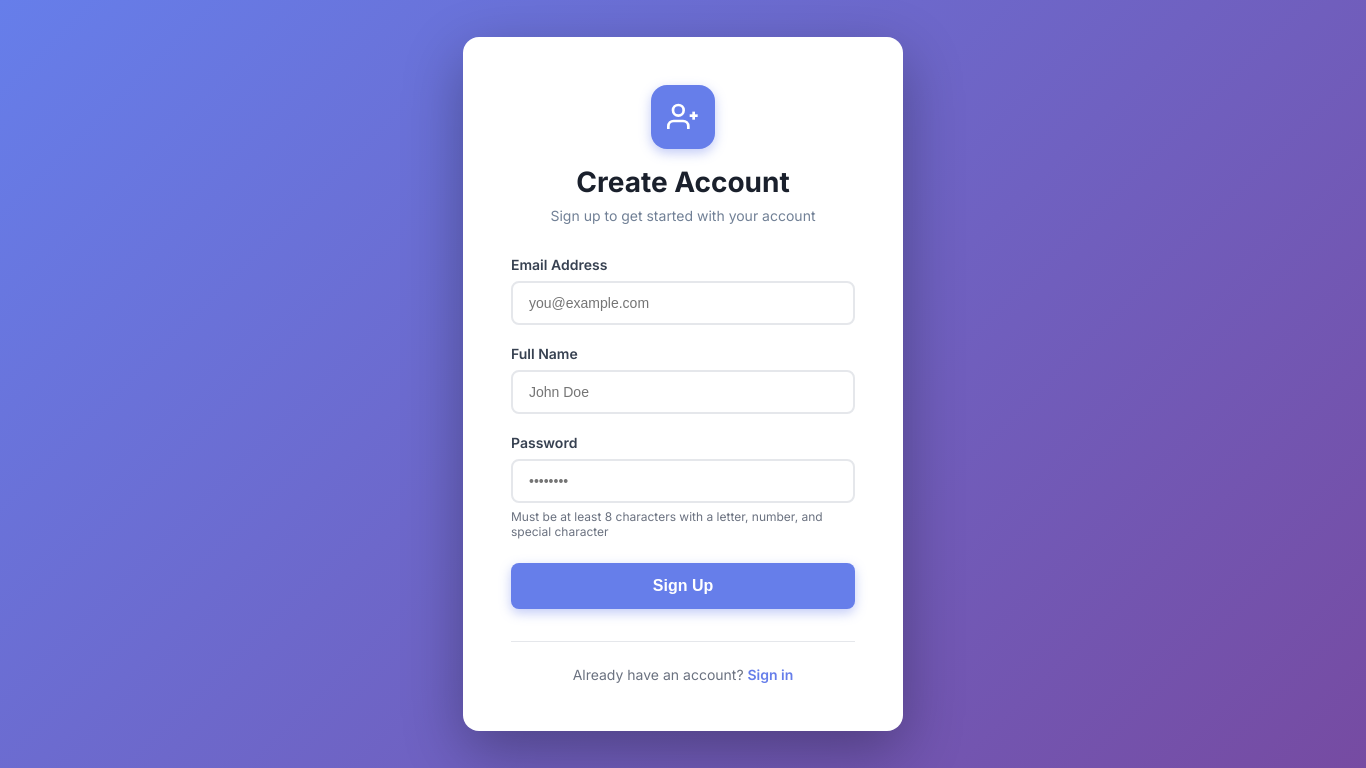
Test case: SignupPage - Unit Tests › displays validation error for password without special character
Type "Password123" into the password field labelled "Password".
click(683, 481); type("Password123")  # box left=511, top=459, right=855, bottom=503
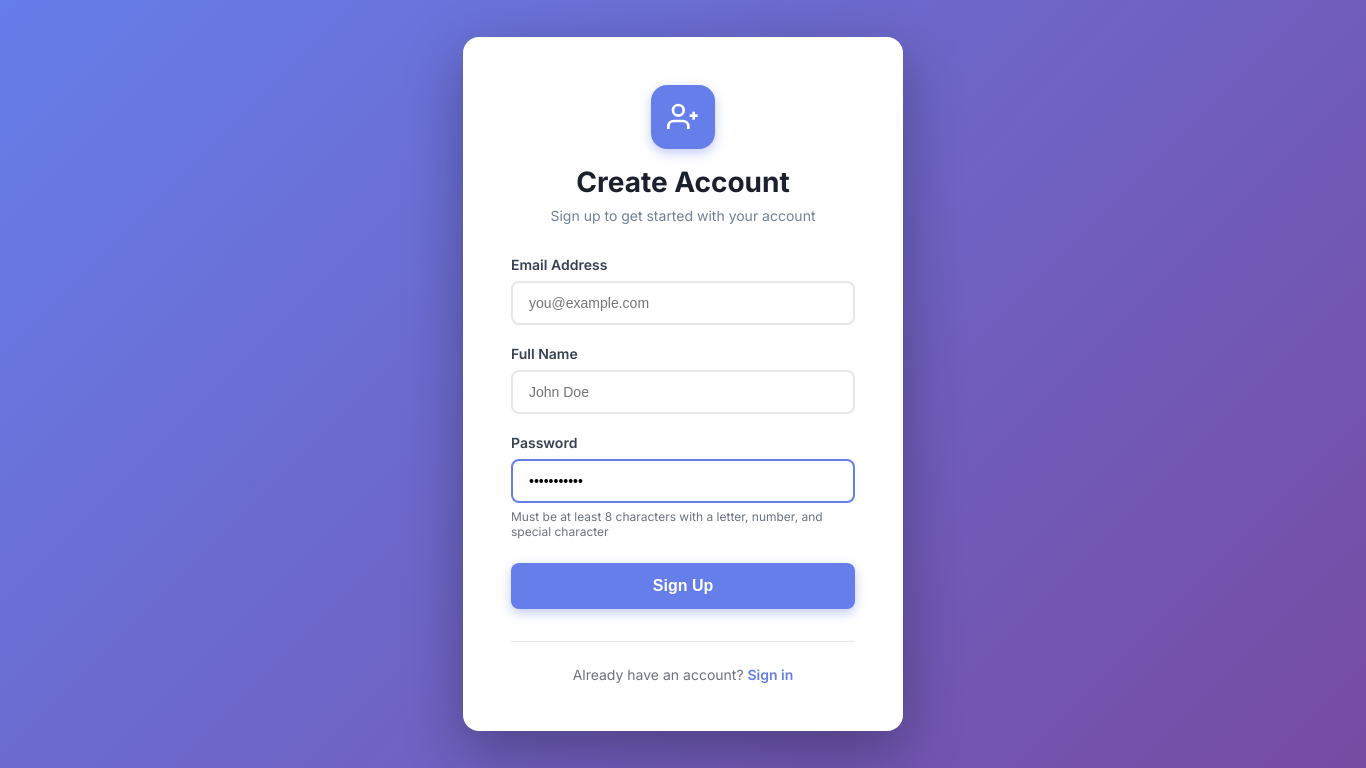
Press Tab
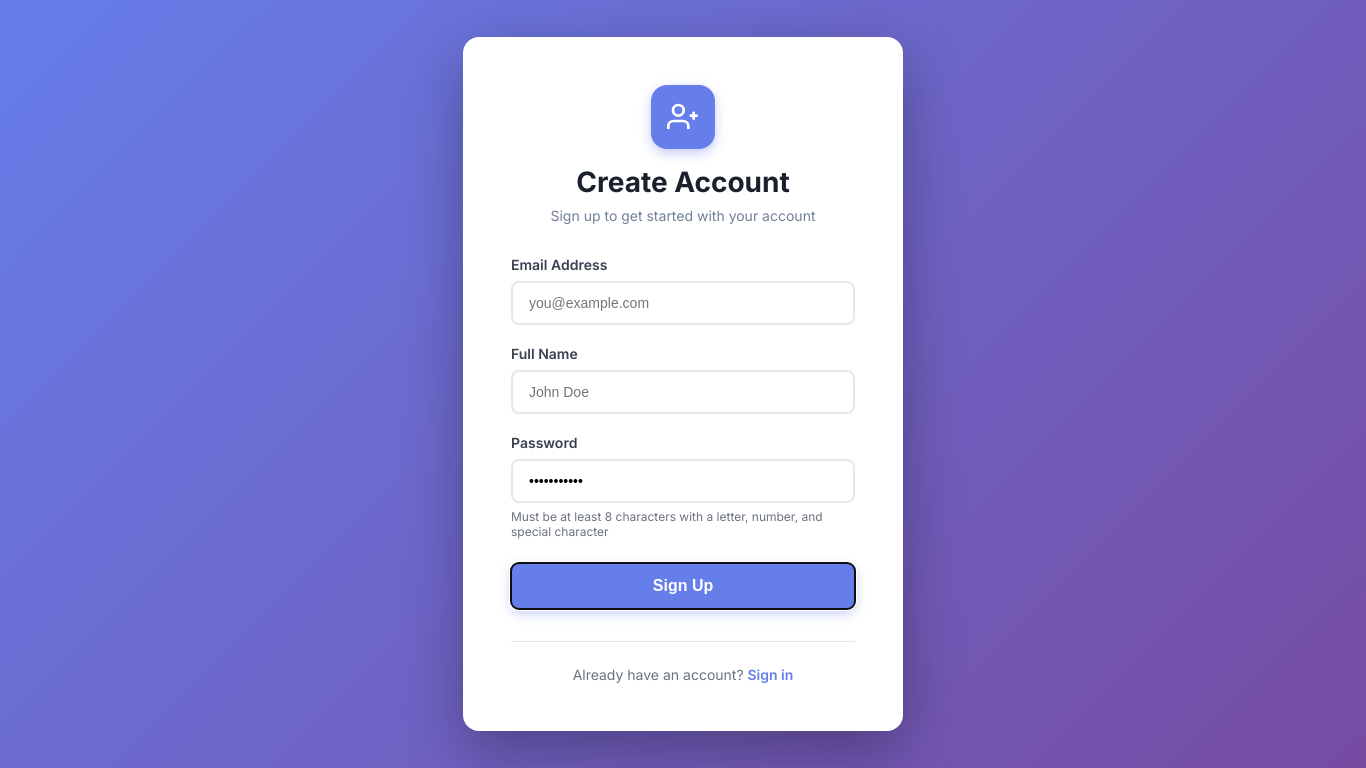
Click the button "Sign Up".
click(683, 586)  # box left=511, top=563, right=855, bottom=609
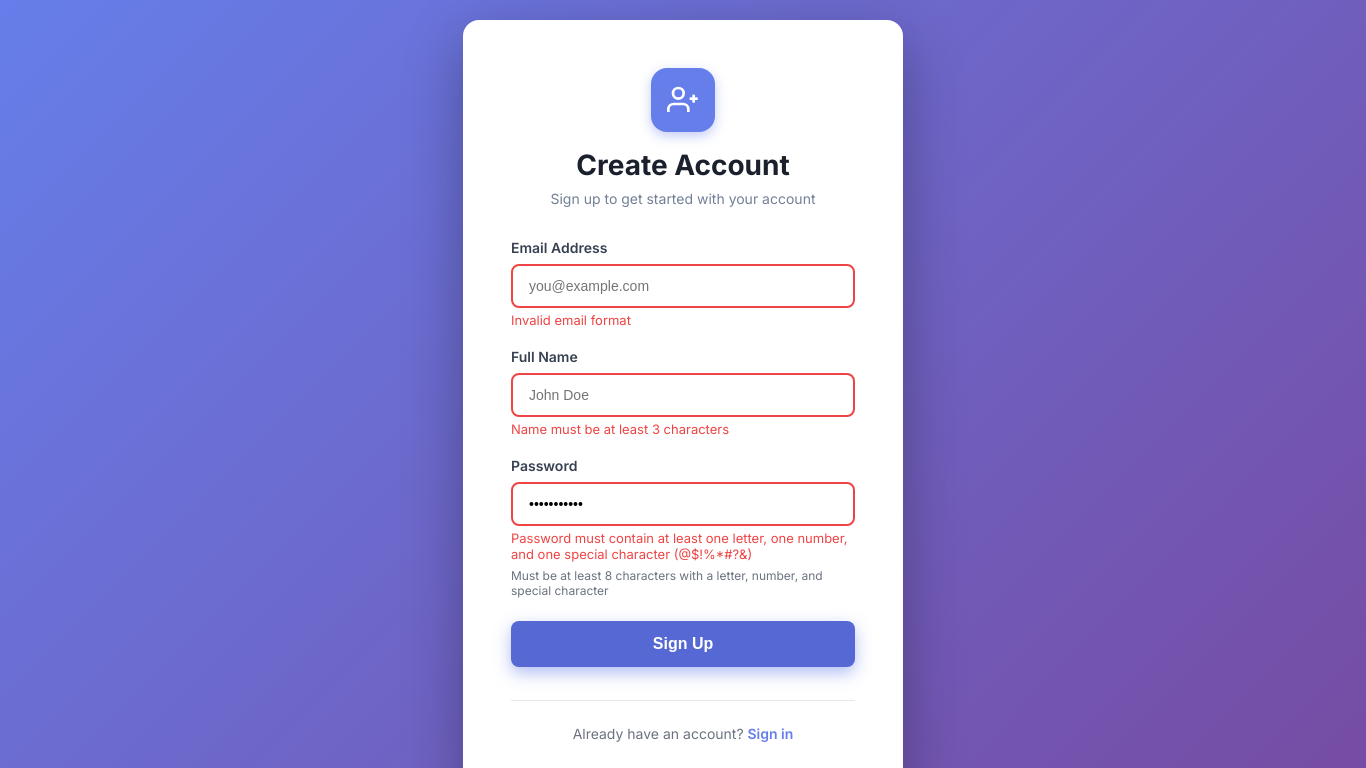
Check: the text "Password must contain at least one letter, one number, and one special character" is shown, box left=511, top=530, right=848, bottom=562
